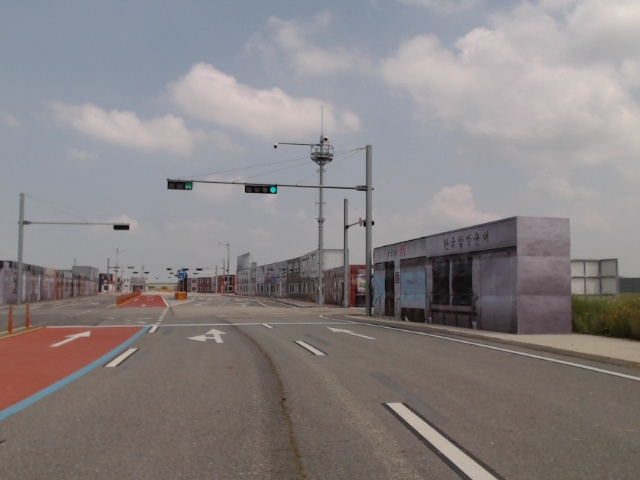straight_green_4: (244, 181, 277, 195)
